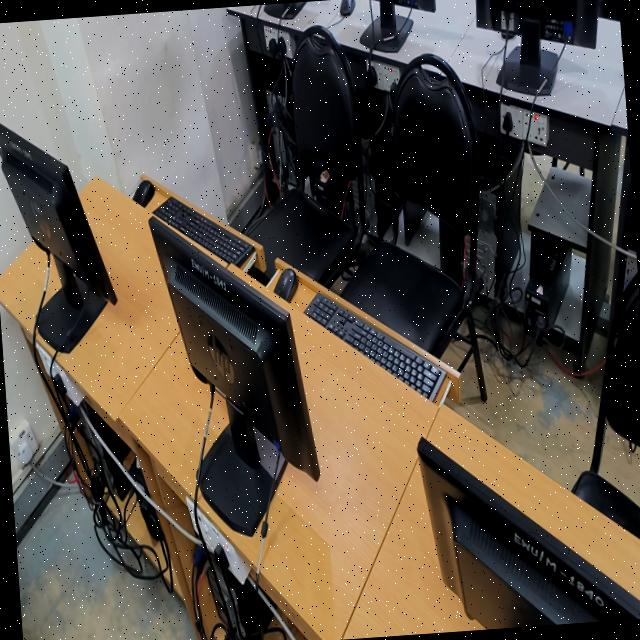Cpu: (475, 139, 522, 290), (358, 90, 393, 239), (264, 84, 296, 194)
Keyboard: (303, 291, 444, 400), (152, 195, 255, 269)
Monitor: (147, 215, 318, 535), (416, 437, 640, 629), (0, 123, 115, 352), (475, 0, 598, 93), (358, 0, 434, 51), (263, 0, 305, 17)
Mouse: (273, 267, 296, 300), (131, 178, 153, 206), (338, 0, 353, 14)
